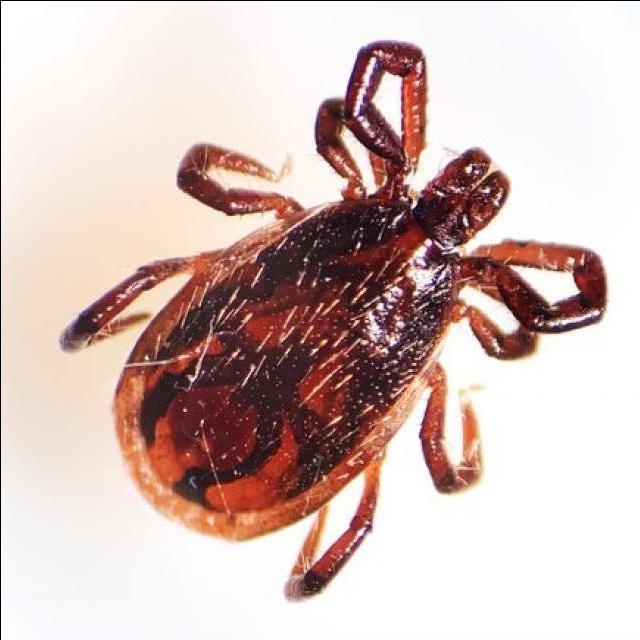Ixodes Ricinus-M: (56, 40, 606, 602)
